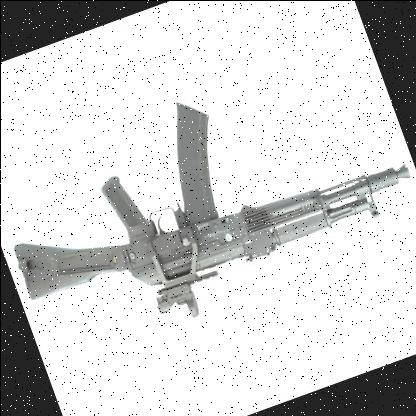rifle: (0, 49, 416, 388)
